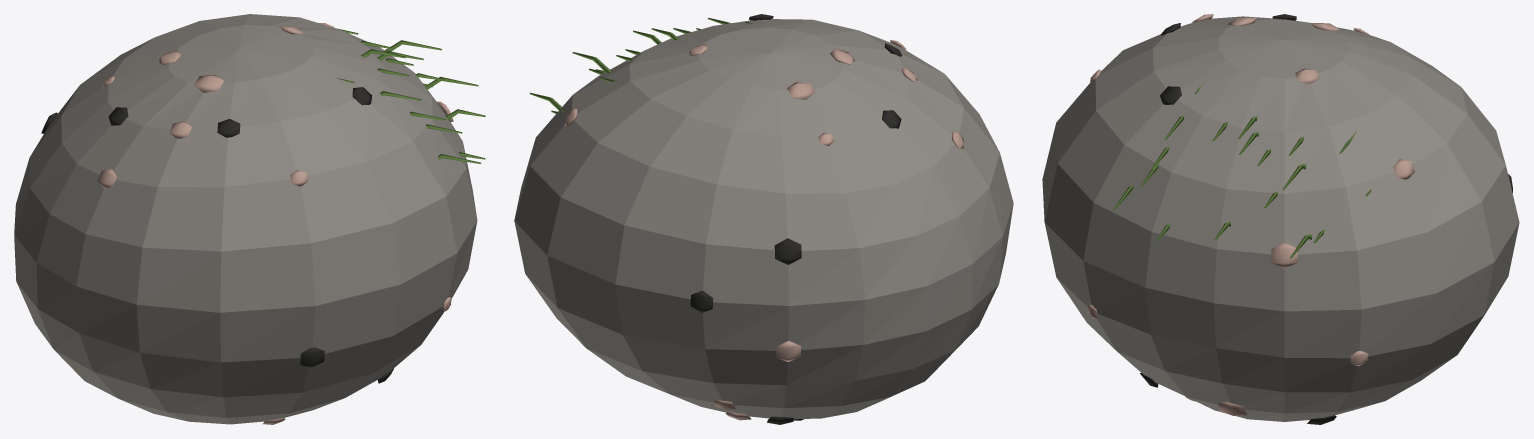
The model's file is lake-boulder-shallows-1.glb.
The picture shows the model from 3 angles, left to right: view 1: azimuth 30°, elevation 25°; view 2: azimuth 150°, elevation 25°; view 3: azimuth 270°, elevation 25°; orthographic projection. The views are drawn at different scales.
Parts seen in each view (by area): view 1: lake-boulder-shallows-1; view 2: lake-boulder-shallows-1; view 3: lake-boulder-shallows-1.
Boxes of the visible parts, x1,y1,x2,y2 form: lake-boulder-shallows-1: (14,14,485,424); lake-boulder-shallows-1: (514,14,1013,424); lake-boulder-shallows-1: (1042,14,1519,424).
Bounding box in the file's own units: 1.32 × 0.991 × 1.21.
